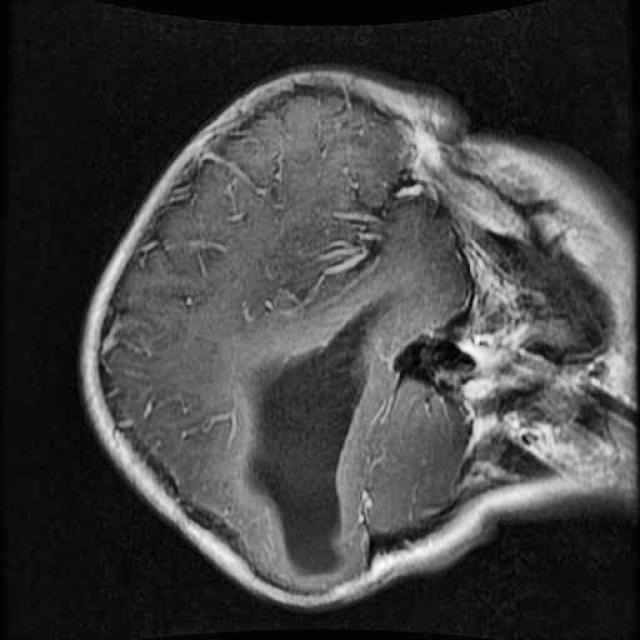Non-Tumor: (235, 270, 416, 590)
